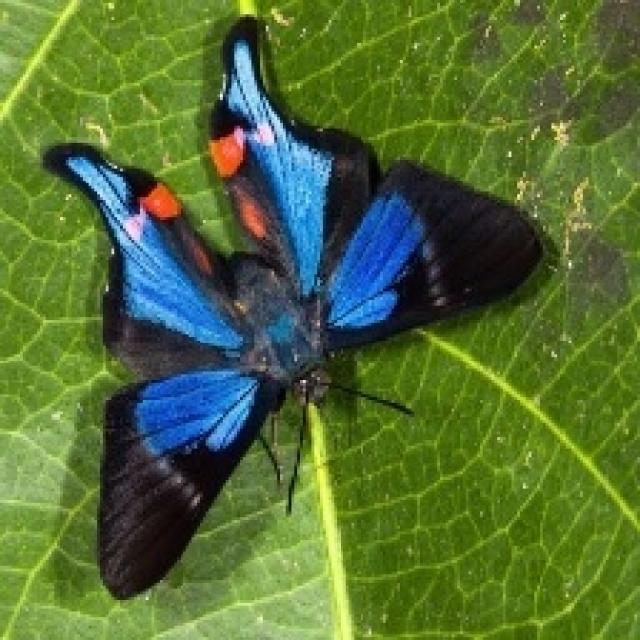butterfly: (40, 11, 543, 600)
